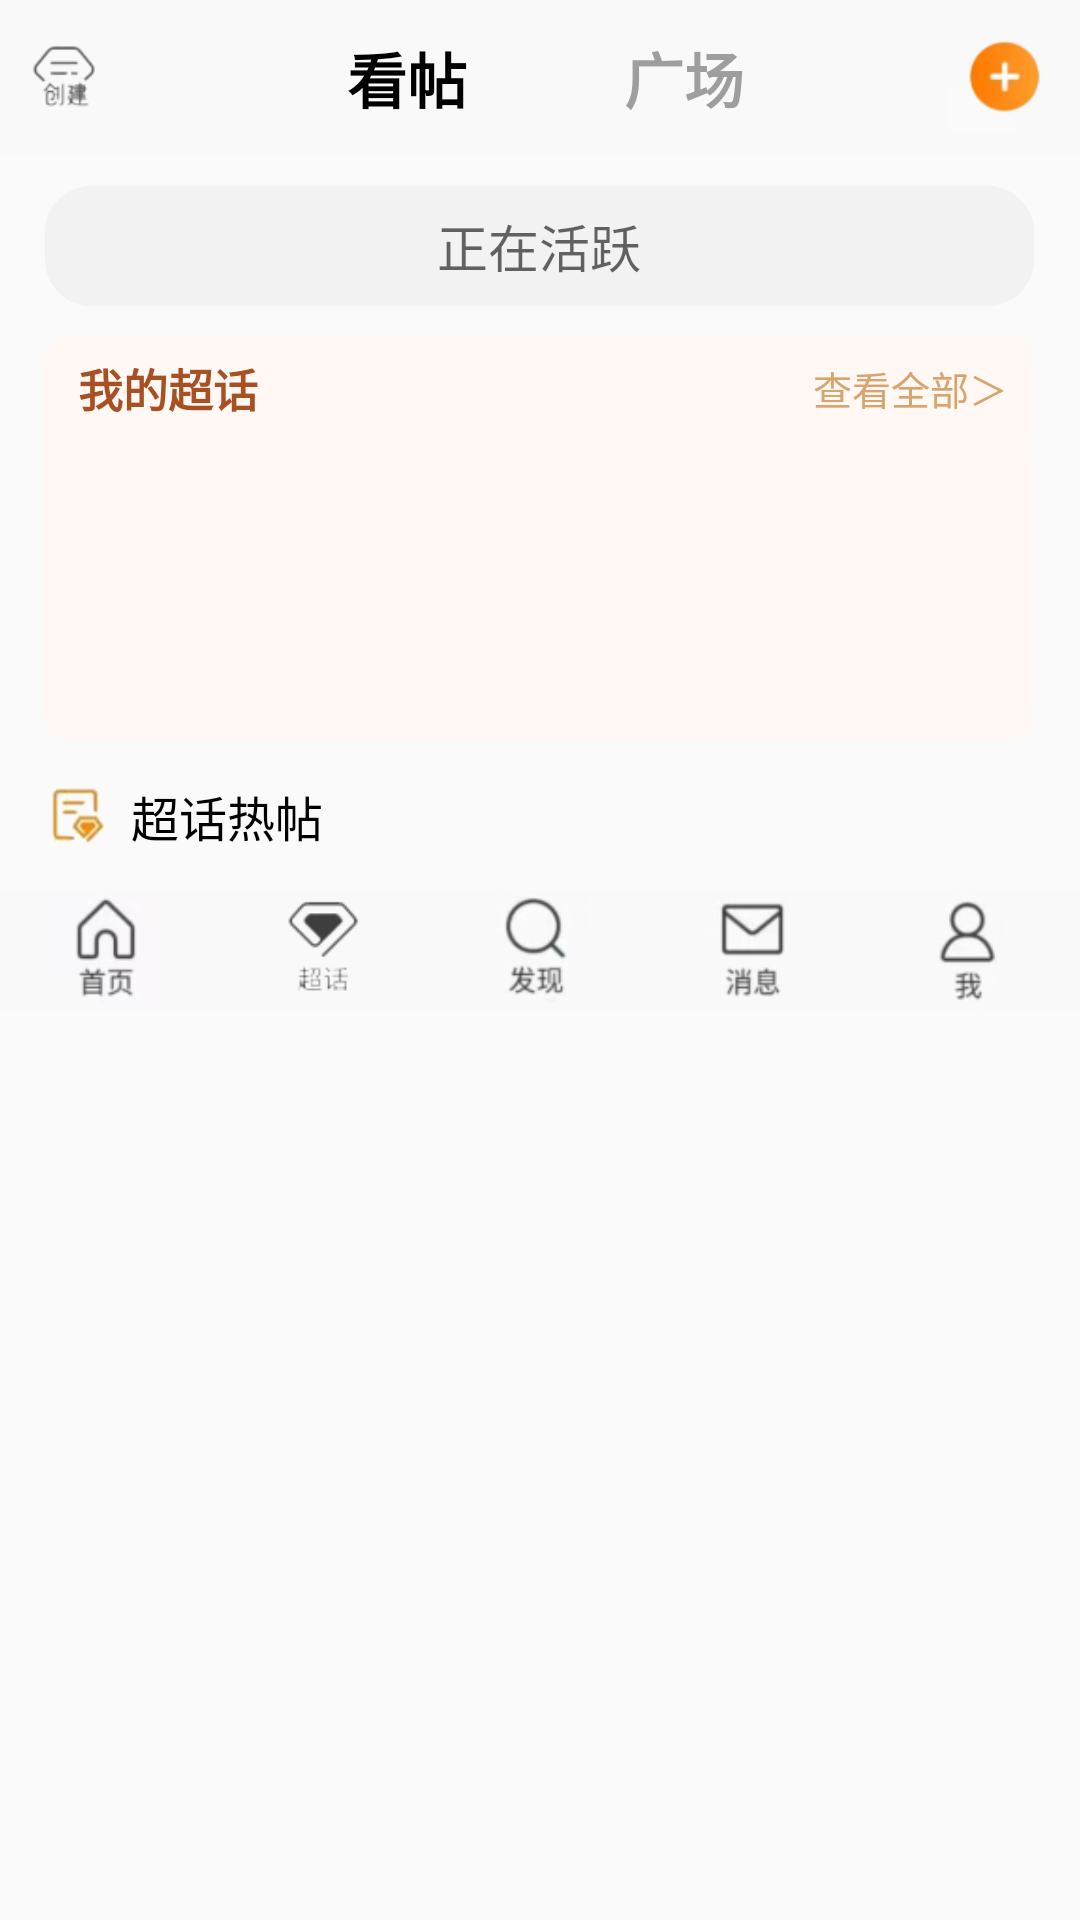

Locate icon controls on the screen. Image size 1080px x 1920px, boxes as [x1,y1,x2,y2].
extend: [969,41,1040,112]
htopic: [52,788,104,843]
